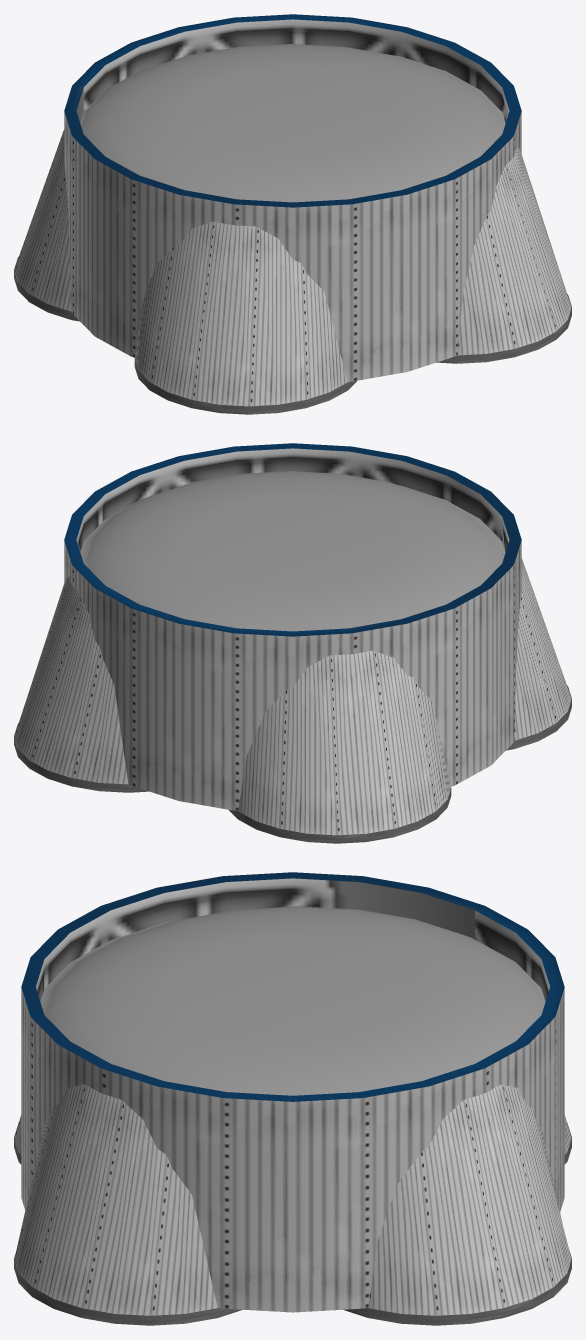
The model's file is QuadEngineCoupler.FBX.
The picture shows the model from 3 angles, top to bottom: view 1: azimuth 30°, elevation 25°; view 2: azimuth 150°, elevation 25°; view 3: azimuth 270°, elevation 25°; orthographic projection. The views are drawn at different scales.
Parts seen in each view (by area): view 1: MainBody, EndCap001, EngineSkirt003, EngineSkirt004, EngineSkirt002, EngineMount003, EngineMount004, EngineMount002; view 2: MainBody, EndCap001, EngineSkirt002, EngineSkirt001, EngineSkirt003, EngineMount002, EngineMount001, EngineMount003; view 3: MainBody, EndCap001, EngineSkirt001, EngineSkirt004, EngineMount004, EngineMount001.
Boxes of the visible parts, x1=… form: MainBody: x1=64, y1=14, x2=521, y2=381; EndCap001: x1=80, y1=44, x2=505, y2=202; EngineSkirt003: x1=134, y1=221, x2=347, y2=406; EngineSkirt004: x1=457, y1=148, x2=571, y2=355; EngineSkirt002: x1=14, y1=129, x2=71, y2=311; EngineMount003: x1=134, y1=359, x2=356, y2=414; EngineMount004: x1=437, y1=294, x2=571, y2=363; EngineMount002: x1=14, y1=256, x2=79, y2=321; MainBody: x1=64, y1=443, x2=521, y2=810; EndCap001: x1=80, y1=471, x2=505, y2=631; EngineSkirt002: x1=238, y1=650, x2=451, y2=835; EngineSkirt001: x1=14, y1=576, x2=128, y2=784; EngineSkirt003: x1=514, y1=558, x2=571, y2=740; EngineMount002: x1=228, y1=788, x2=451, y2=843; EngineMount001: x1=14, y1=723, x2=148, y2=792; EngineMount003: x1=506, y1=685, x2=571, y2=750; MainBody: x1=21, y1=872, x2=564, y2=1312; EndCap001: x1=40, y1=906, x2=545, y2=1095; EngineSkirt001: x1=368, y1=1084, x2=571, y2=1315; EngineSkirt004: x1=14, y1=1084, x2=217, y2=1315; EngineMount004: x1=14, y1=1254, x2=242, y2=1325; EngineMount001: x1=343, y1=1253, x2=571, y2=1325.
Size of what is drawn, in the model's own units: 2.57 by 1.12 by 2.57.
